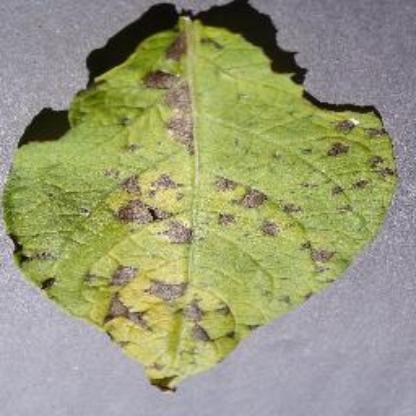Early-Blight: (7, 7, 407, 395)
